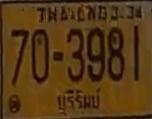0: (31, 28, 49, 82)
1: (133, 25, 139, 82)
3: (66, 28, 84, 81)
7: (11, 29, 28, 84)
8: (107, 26, 124, 80)
9: (86, 28, 104, 81)
BRM: (55, 86, 103, 116)
